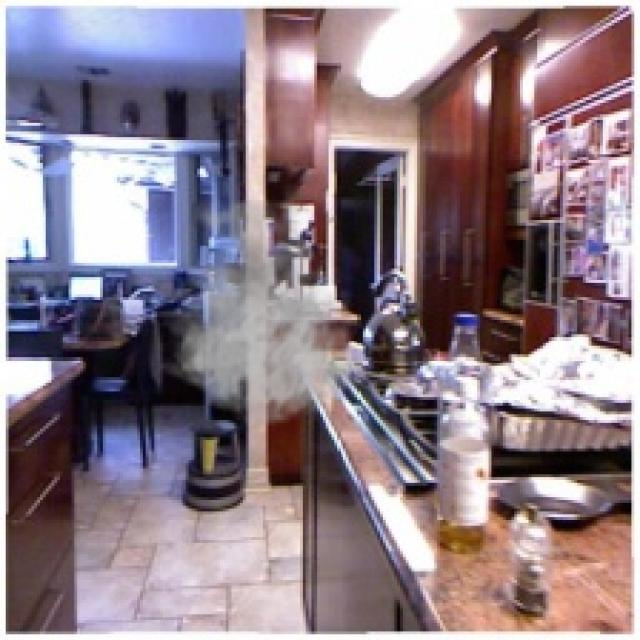smoke: (157, 180, 366, 429)
